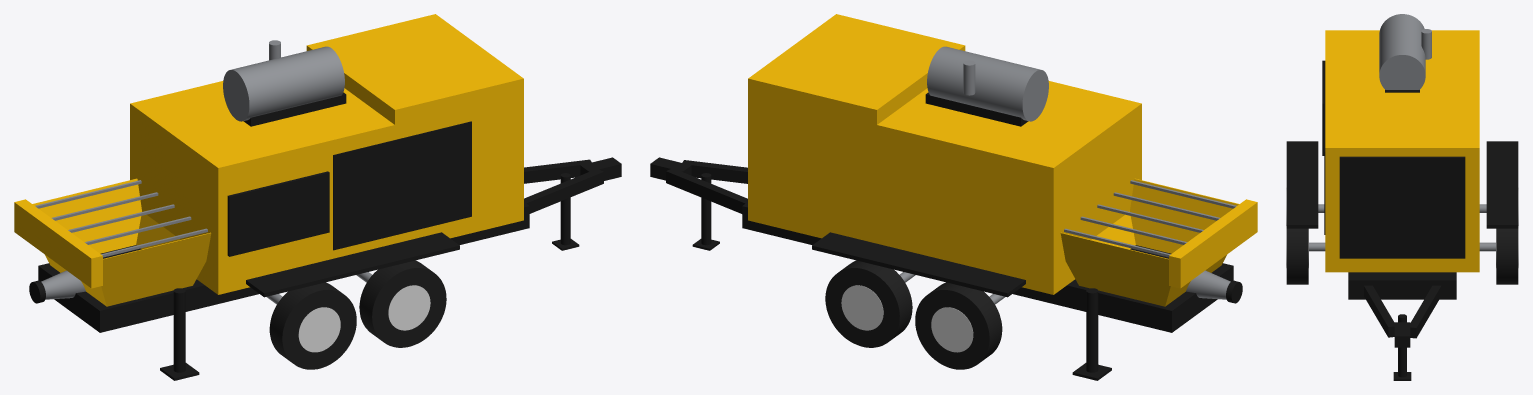
The model's file is Trailer_Concrete_Line_Pump.glb.
3 renders of one model, left to right at view 1: azimuth 30°, elevation 25°; view 2: azimuth 150°, elevation 25°; view 3: azimuth 270°, elevation 25°, orthographic. The views are drawn at different scales.
Parts seen in each view (by area): view 1: hopper_skirt_57af64, jack_foot_85116b, safety_chains_fff853, tire_1_-1_c0214d, rim_1_-1_b70152; view 2: hopper_skirt_57af64, jack_foot_85116b, safety_chains_fff853, tire_1_-1_c0214d, rim_1_-1_b70152; view 3: jack_foot_85116b, hopper_skirt_57af64, safety_chains_fff853, tire_1_-1_c0214d, rim_1_-1_b70152.
Boxes of the visible parts, x1,y1,x2,y2 form: hopper_skirt_57af64: [14, 14, 523, 306]; jack_foot_85116b: [29, 92, 621, 380]; safety_chains_fff853: [35, 40, 372, 304]; tire_1_-1_c0214d: [269, 260, 446, 369]; rim_1_-1_b70152: [298, 285, 430, 352]; hopper_skirt_57af64: [748, 14, 1257, 306]; jack_foot_85116b: [650, 92, 1242, 380]; safety_chains_fff853: [899, 46, 1236, 304]; tire_1_-1_c0214d: [825, 260, 1002, 369]; rim_1_-1_b70152: [841, 285, 973, 352]; jack_foot_85116b: [1286, 60, 1518, 380]; hopper_skirt_57af64: [1325, 30, 1479, 272]; safety_chains_fff853: [1309, 14, 1495, 251]; tire_1_-1_c0214d: [1286, 228, 1518, 284]; rim_1_-1_b70152: [1286, 188, 1518, 267].
Size of the model in its own units: 122 by 52 by 48.12.
